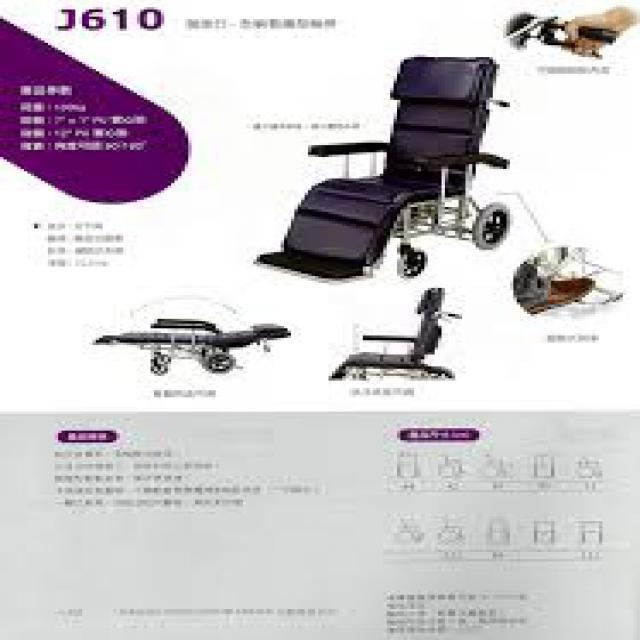wheelchair: (243, 38, 524, 283)
